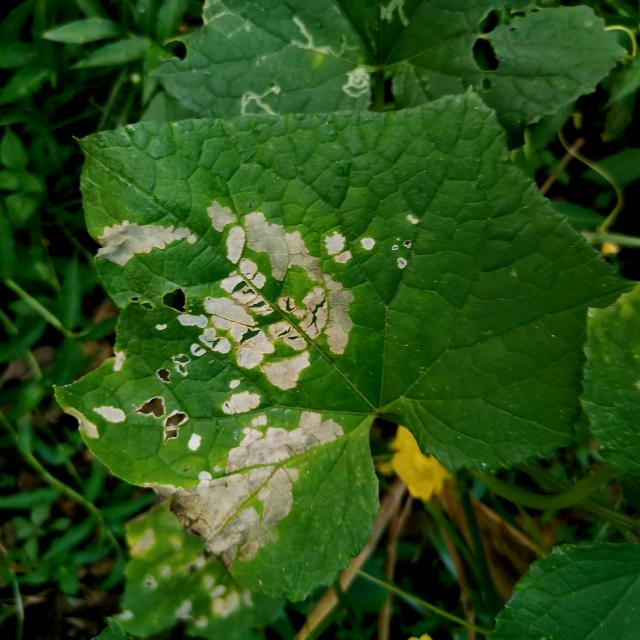disease_cucumber: (92, 200, 379, 390), (66, 389, 351, 562), (388, 212, 427, 277)
